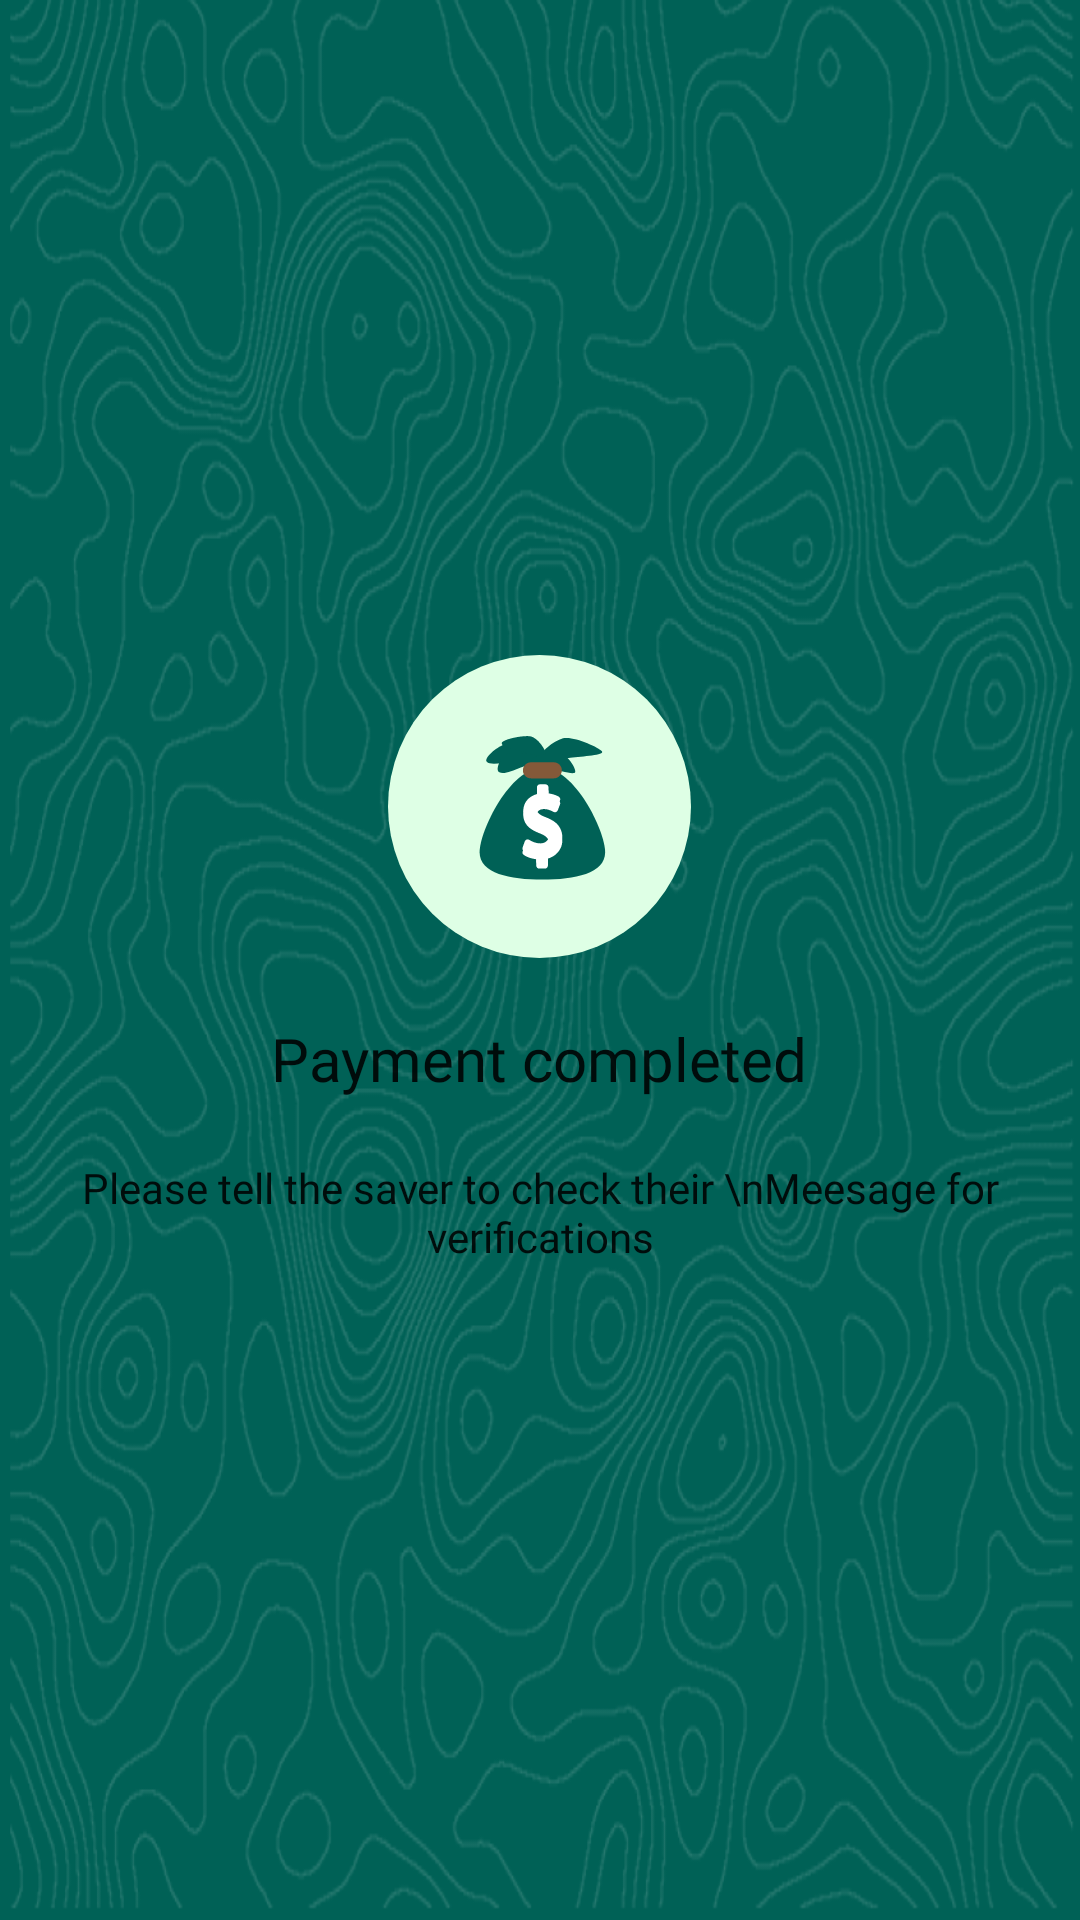

Screen size 1080*1920. Icon name, then its center in pixels as (x,y):
money bag: (539,806)
